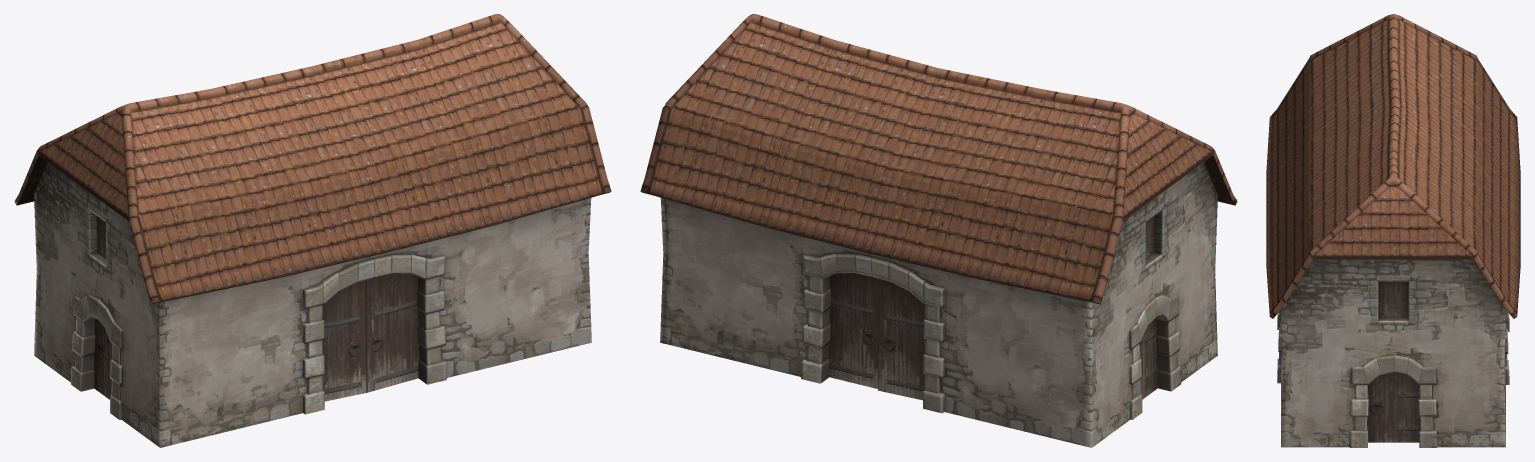
File: barn.fbx
3 renders of one model, left to right at view 1: azimuth 30°, elevation 25°; view 2: azimuth 150°, elevation 25°; view 3: azimuth 270°, elevation 25°, orthographic. The views are drawn at different scales.
Visible parts, largest first — view 1: GEOM0_LOD0; view 2: GEOM0_LOD0; view 3: GEOM0_LOD0.
Part boxes in pixels (x1,y1,x2,y2): GEOM0_LOD0: (14,14,611,447); GEOM0_LOD0: (640,14,1237,447); GEOM0_LOD0: (1266,14,1520,447).
Size of what is drawn, in the model's own units: 1659 by 1005 by 895.
